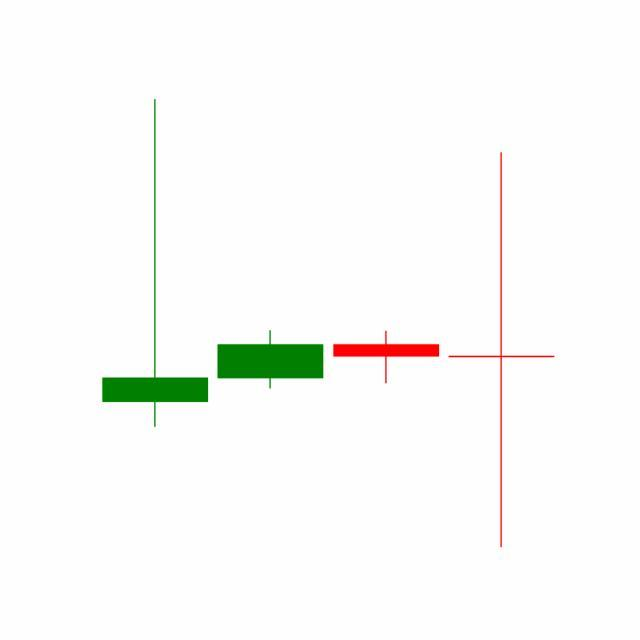Hammer: (329, 331, 445, 386)
